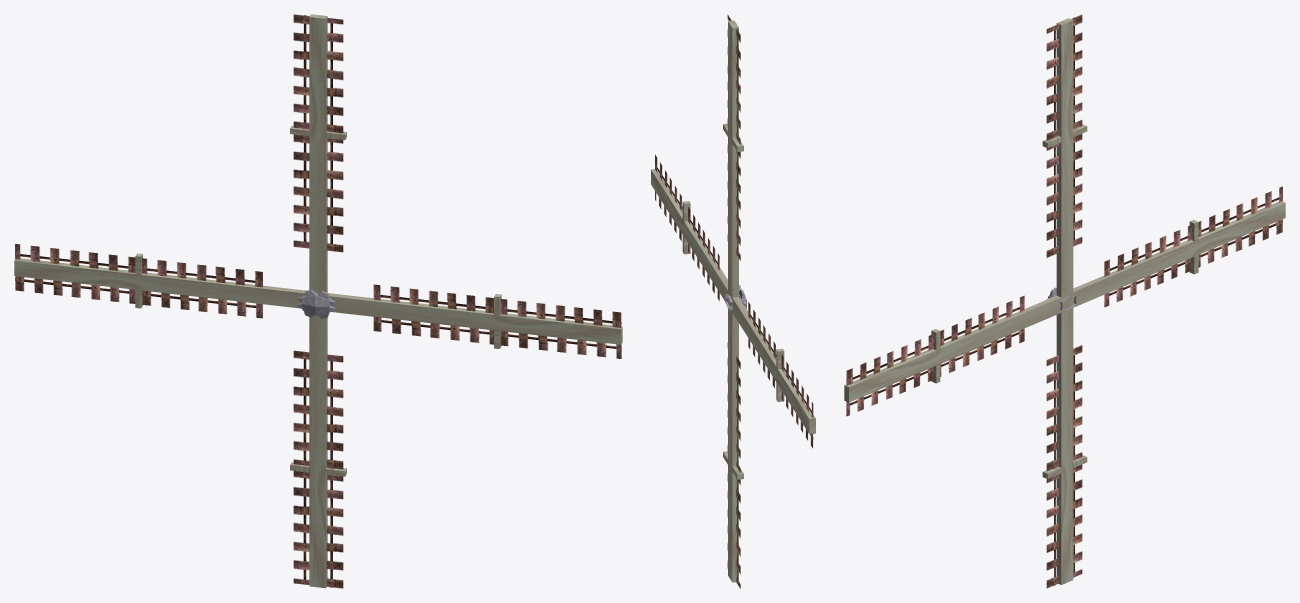
3 views of the same model, side by side, from view 1: azimuth 30°, elevation 25°; view 2: azimuth 150°, elevation 25°; view 3: azimuth 270°, elevation 25° (orthographic). The views are drawn at different scales.
Visible parts, largest first — view 1: Cube014_woodsemwhite_0, Cube016_woodsemwhite_0, Cube012_woodsemwhite_0, Cube015_woodsemwhite_0, Cube015_reja_madera_0, Cube012_reja_madera_0, Cube014_reja_madera_0, Cube016_reja_madera_0, Cube128_concreto_0; view 2: Cube012_woodsemwhite_0, Cube015_woodsemwhite_0, Cube016_woodsemwhite_0, Cube014_woodsemwhite_0, Cube016_reja_madera_0, Cube014_reja_madera_0, Cube012_reja_madera_0, Cube015_reja_madera_0; view 3: Cube012_woodsemwhite_0, Cube015_woodsemwhite_0, Cube014_woodsemwhite_0, Cube016_woodsemwhite_0, Cube014_reja_madera_0, Cube016_reja_madera_0, Cube015_reja_madera_0, Cube012_reja_madera_0.
Part boxes in pixels (x1,y1,x2,y2): Cube014_woodsemwhite_0: (328, 293, 622, 348); Cube016_woodsemwhite_0: (14, 253, 305, 308); Cube012_woodsemwhite_0: (290, 14, 346, 292); Cube015_woodsemwhite_0: (290, 315, 346, 588); Cube015_reja_madera_0: (293, 350, 343, 588); Cube012_reja_madera_0: (293, 14, 343, 252); Cube014_reja_madera_0: (373, 284, 621, 358); Cube016_reja_madera_0: (15, 244, 262, 318); Cube128_concreto_0: (298, 289, 335, 318); Cube012_woodsemwhite_0: (723, 20, 743, 299); Cube015_woodsemwhite_0: (723, 299, 743, 582); Cube016_woodsemwhite_0: (731, 297, 815, 434); Cube014_woodsemwhite_0: (651, 169, 730, 301); Cube016_reja_madera_0: (748, 302, 813, 447); Cube014_reja_madera_0: (655, 154, 719, 300); Cube012_reja_madera_0: (727, 14, 740, 260); Cube015_reja_madera_0: (727, 342, 740, 588); Cube012_woodsemwhite_0: (1042, 18, 1087, 301); Cube015_woodsemwhite_0: (1042, 303, 1087, 584); Cube014_woodsemwhite_0: (844, 295, 1067, 402); Cube016_woodsemwhite_0: (1067, 201, 1285, 307); Cube014_reja_madera_0: (846, 295, 1024, 416); Cube016_reja_madera_0: (1104, 186, 1282, 307); Cube015_reja_madera_0: (1046, 345, 1082, 588); Cube012_reja_madera_0: (1046, 14, 1082, 257).
Size of the model in its own units: 12.9 by 18.04 by 12.9.
3 materials, 3 textured.
